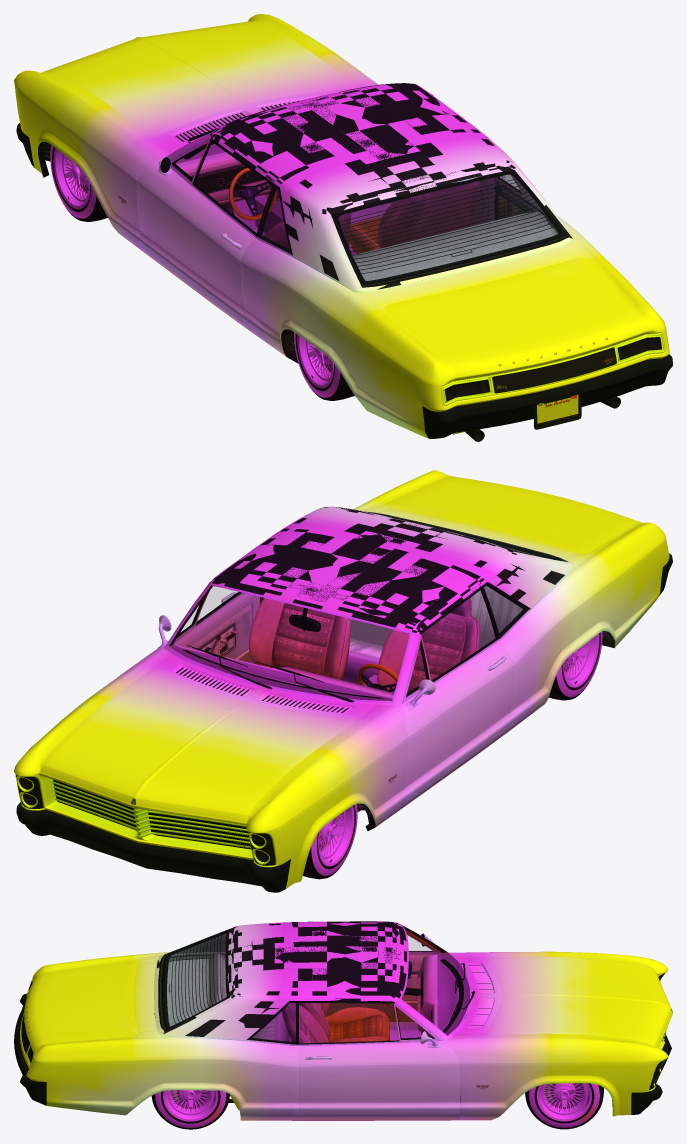
File: buccaneer2.glb
3 renders of one model, top to bottom at view 1: azimuth 30°, elevation 25°; view 2: azimuth 150°, elevation 25°; view 3: azimuth 270°, elevation 25°, orthographic. The views are drawn at different scales.
Parts seen in each view (by area): view 1: bodyshell, extra_4, bonnet, boot, windscreen_r, extra_2, misc_v, wing_lf, door_dside_f, misc_s, misc_2, window_lf (+9 smaller); view 2: bonnet, bodyshell, misc_v, extra_4, wing_lf, extra_2, door_dside_f, boot, misc_a, misc_r, wing_rf, window_lf (+6 smaller); view 3: bodyshell, bonnet, extra_4, wing_rf, door_pside_f, misc_v, extra_2, boot, windscreen_r, window_rf, wheel_rf, wheel_rr (+9 smaller).
Part boxes in pixels (<box>): bodyshell: <box>141,84,669,438</box>; extra_4: <box>209,84,573,290</box>; bonnet: <box>44,21,359,137</box>; boot: <box>385,258,645,379</box>; windscreen_r: <box>334,172,563,284</box>; extra_2: <box>210,83,572,289</box>; misc_v: <box>175,142,558,269</box>; wing_lf: <box>14,70,171,251</box>; door_dside_f: <box>136,141,256,323</box>; misc_s: <box>422,354,672,438</box>; misc_2: <box>338,174,559,282</box>; window_lf: <box>194,142,271,233</box>; bonnet: <box>40,667,359,822</box>; bodyshell: <box>40,470,669,859</box>; misc_v: <box>169,547,535,700</box>; extra_4: <box>210,506,573,638</box>; wing_lf: <box>246,704,408,888</box>; extra_2: <box>212,507,564,632</box>; door_dside_f: <box>402,635,514,803</box>; boot: <box>385,476,641,553</box>; misc_a: <box>40,775,252,858</box>; misc_r: <box>16,802,290,892</box>; wing_rf: <box>14,647,171,810</box>; window_lf: <box>422,590,496,680</box>; bodyshell: <box>20,924,672,1120</box>; bonnet: <box>484,956,672,1047</box>; extra_4: <box>155,921,406,1044</box>; wing_rf: <box>444,1033,668,1120</box>; door_pside_f: <box>299,1004,459,1114</box>; misc_v: <box>168,952,470,1043</box>; extra_2: <box>157,921,406,1036</box>; boot: <box>24,960,137,1050</box>; windscreen_r: <box>161,931,228,1028</box>; window_rf: <box>299,1003,398,1042</box>; wheel_rf: <box>525,1083,603,1129</box>; wheel_rr: <box>151,1090,229,1129</box>.
Bounding box in the file's own units: 1.97 × 1.16 × 5.29.
Materials: 25 (25 with a texture image).
